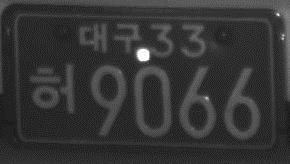0: (132, 64, 172, 138)
3: (180, 21, 205, 59), (149, 21, 174, 57)
6: (222, 66, 263, 141), (179, 64, 217, 140)
9: (90, 62, 128, 138)
대구_O: (76, 20, 144, 57)
허: (30, 62, 77, 116)
